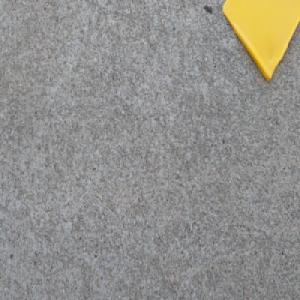PlasticPart: (221, 0, 300, 87)
